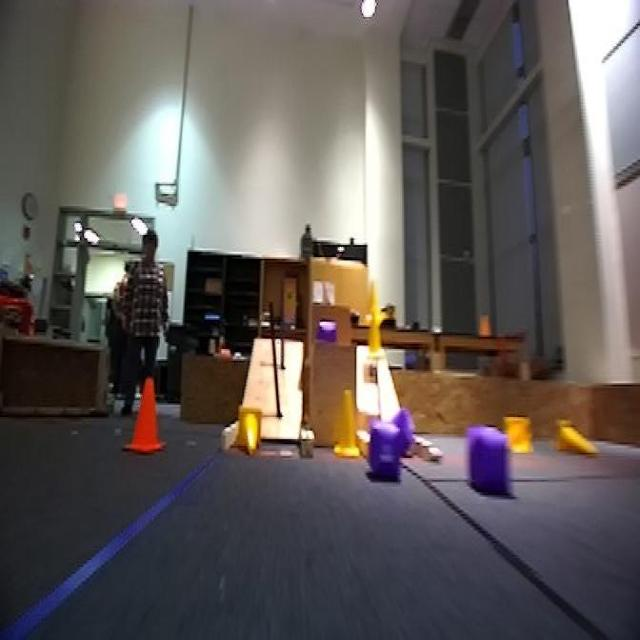frc_cone: (334, 386, 371, 463), (236, 404, 267, 456), (501, 410, 531, 458), (363, 312, 387, 364), (555, 420, 590, 453), (368, 281, 384, 328)
frc_cube: (466, 429, 515, 494), (361, 420, 400, 475), (381, 407, 411, 451), (315, 325, 337, 344)
